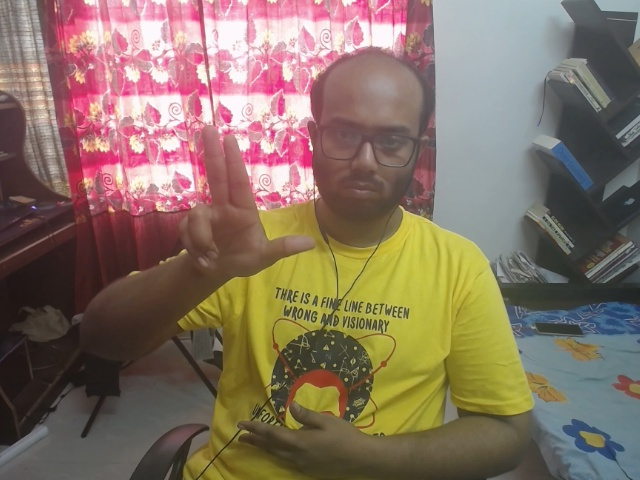eight: (150, 108, 324, 300)
